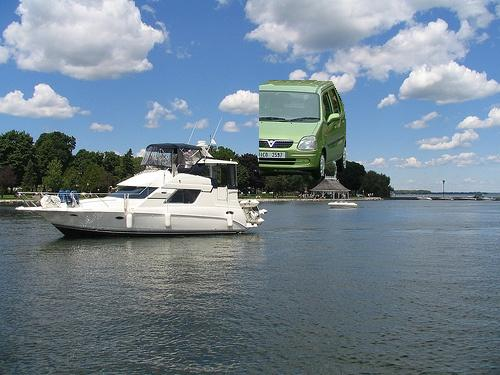tampered: (260, 81, 346, 180)
